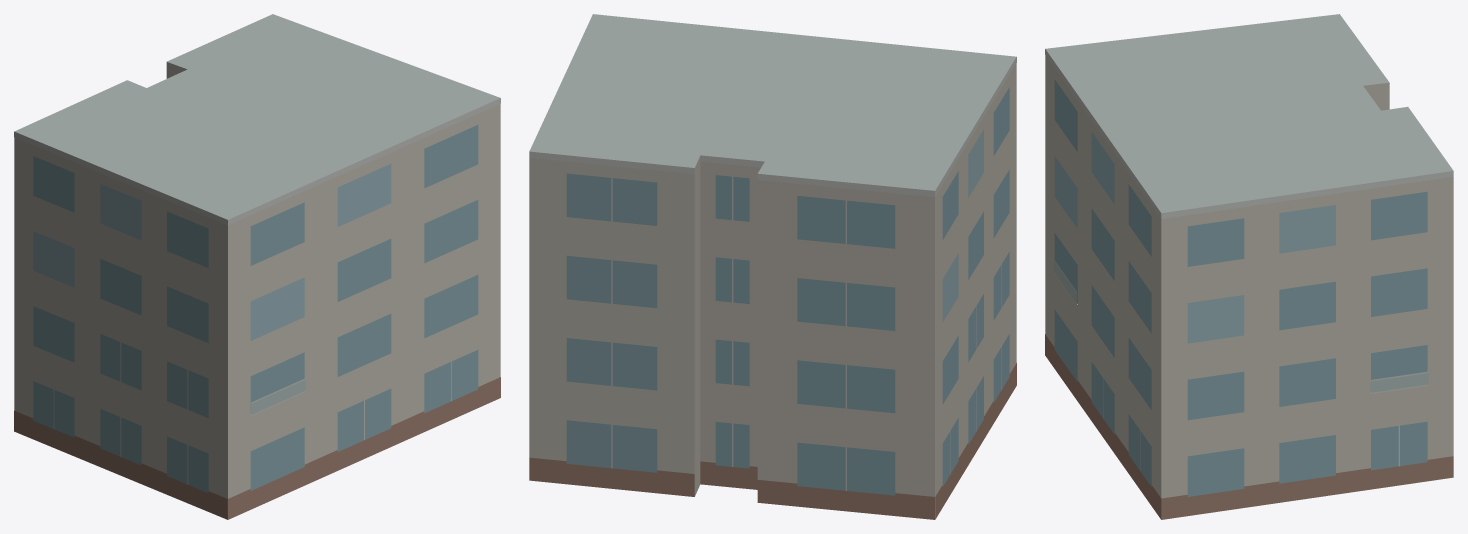
File: survey-upis-32738119.glb
3 views of the same model, side by side, from view 1: azimuth 30°, elevation 25°; view 2: azimuth 150°, elevation 25°; view 3: azimuth 270°, elevation 25° (orthographic). The views are drawn at different scales.
Parts seen in each view (by area): view 1: survey-upis-32738119.tmp; view 2: survey-upis-32738119.tmp; view 3: survey-upis-32738119.tmp.
Boxes of the visible parts, bbox=[...] form: survey-upis-32738119.tmp: bbox=[14, 14, 500, 519]; survey-upis-32738119.tmp: bbox=[529, 14, 1016, 519]; survey-upis-32738119.tmp: bbox=[1045, 14, 1453, 519].
Bounding box in the file's own units: 17.91 × 12.85 × 15.52.
